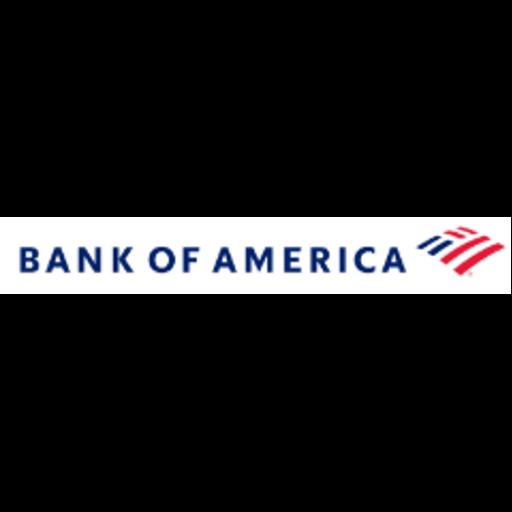Bank of America: (0, 217, 511, 294)
